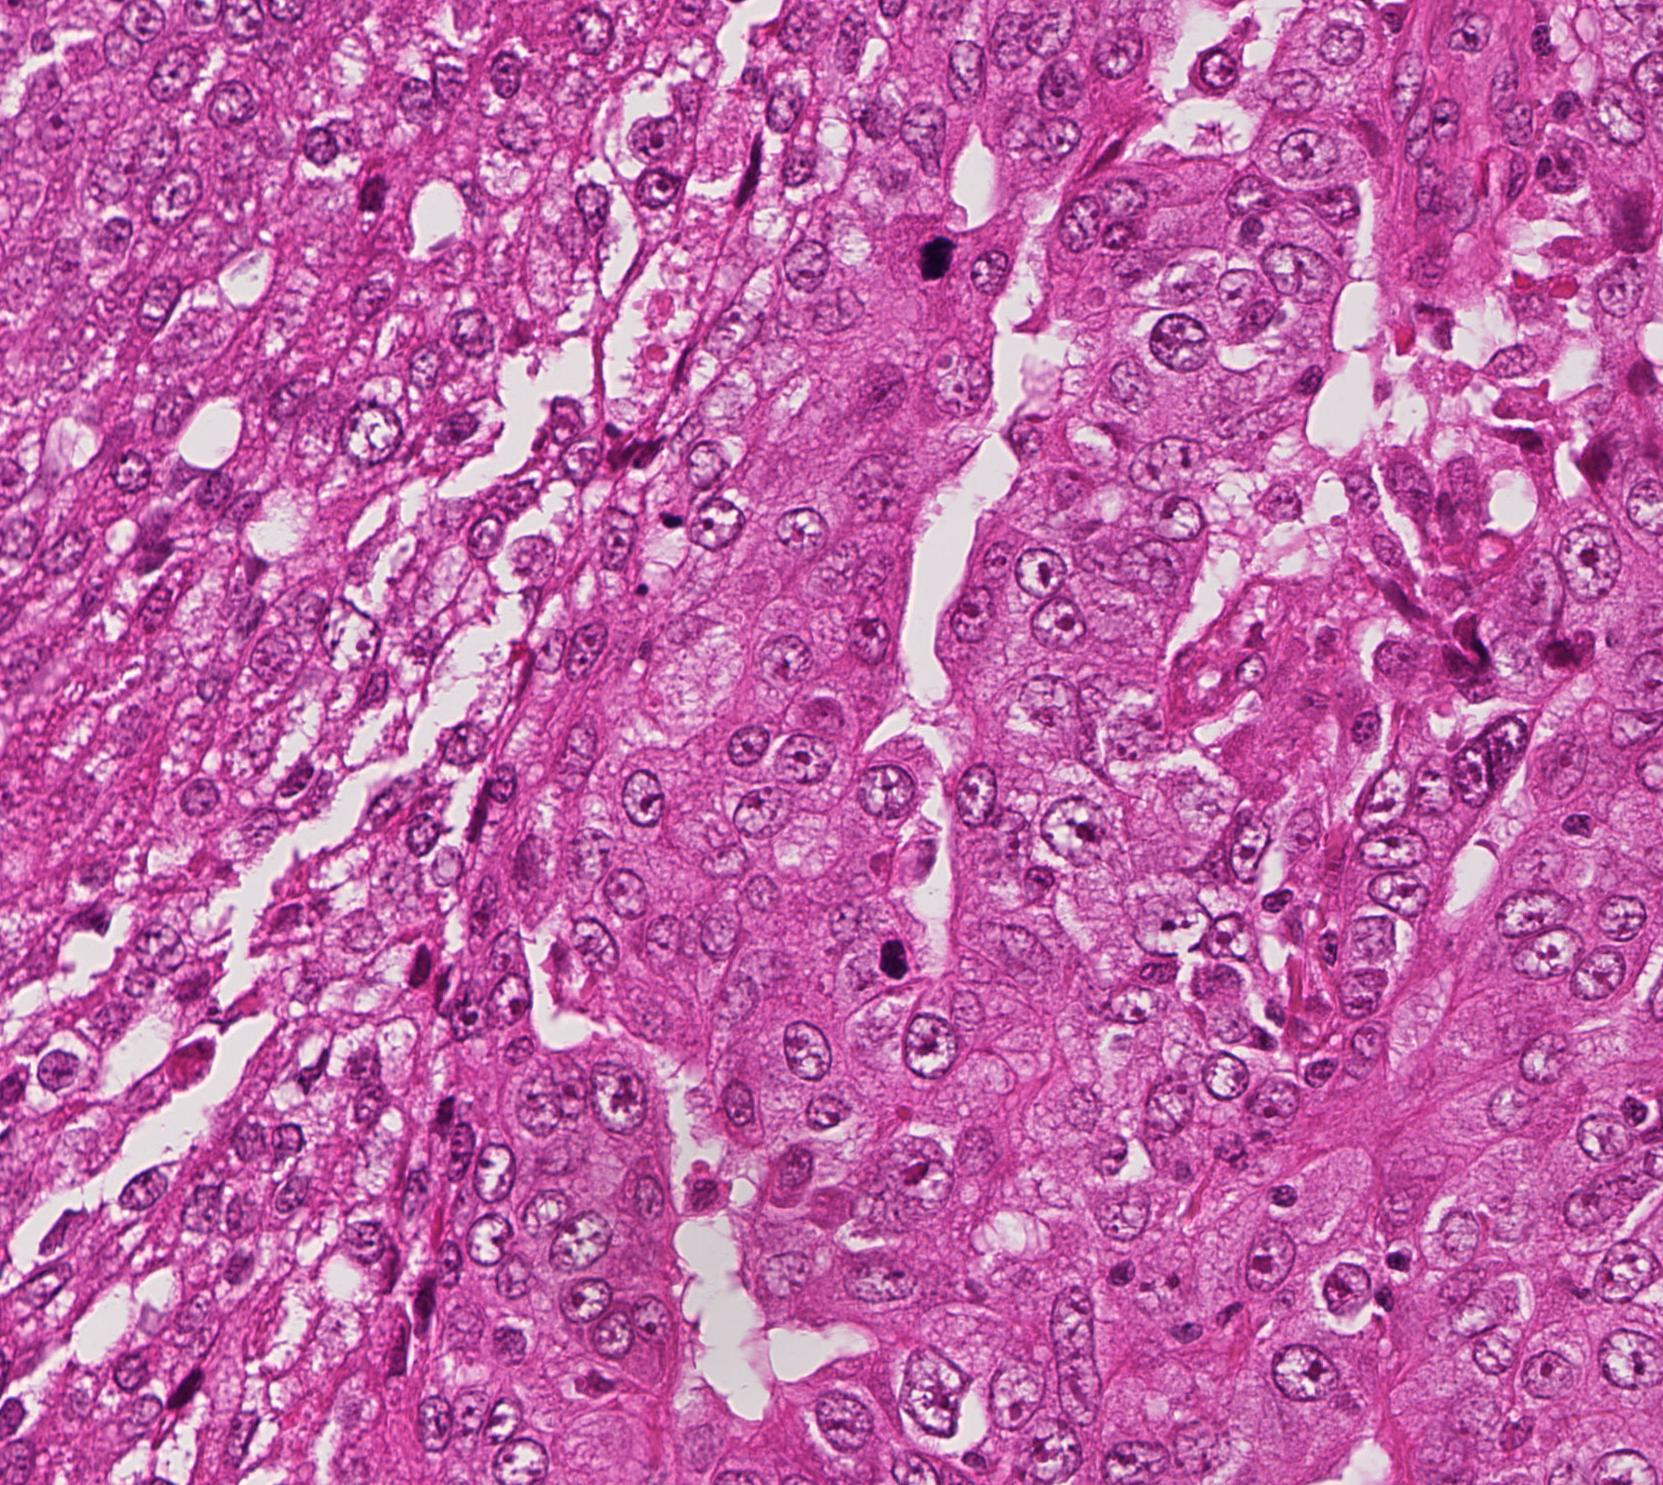mitosis: (866, 923, 926, 983), (905, 225, 963, 285)
